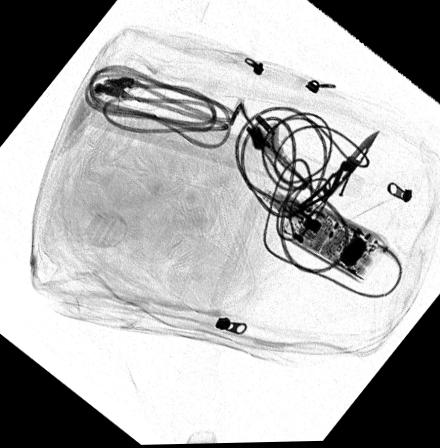Knife: (296, 130, 382, 221)
